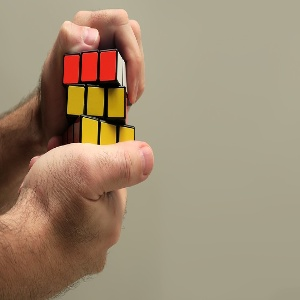cube: (62, 48, 135, 145)
